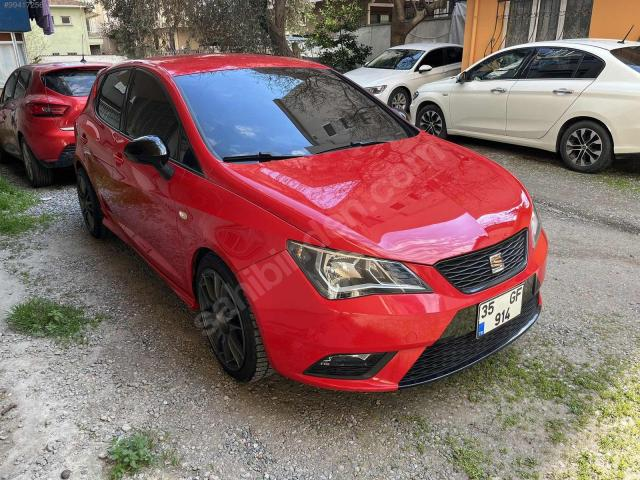plaka: (476, 284, 524, 338)
